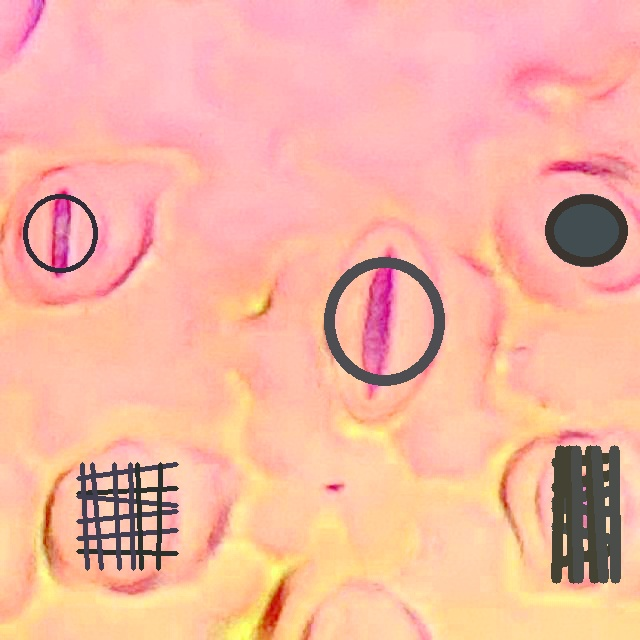close: (77, 462, 177, 570), (545, 194, 627, 267)
open: (324, 257, 443, 385), (551, 446, 618, 582), (23, 192, 98, 274)
